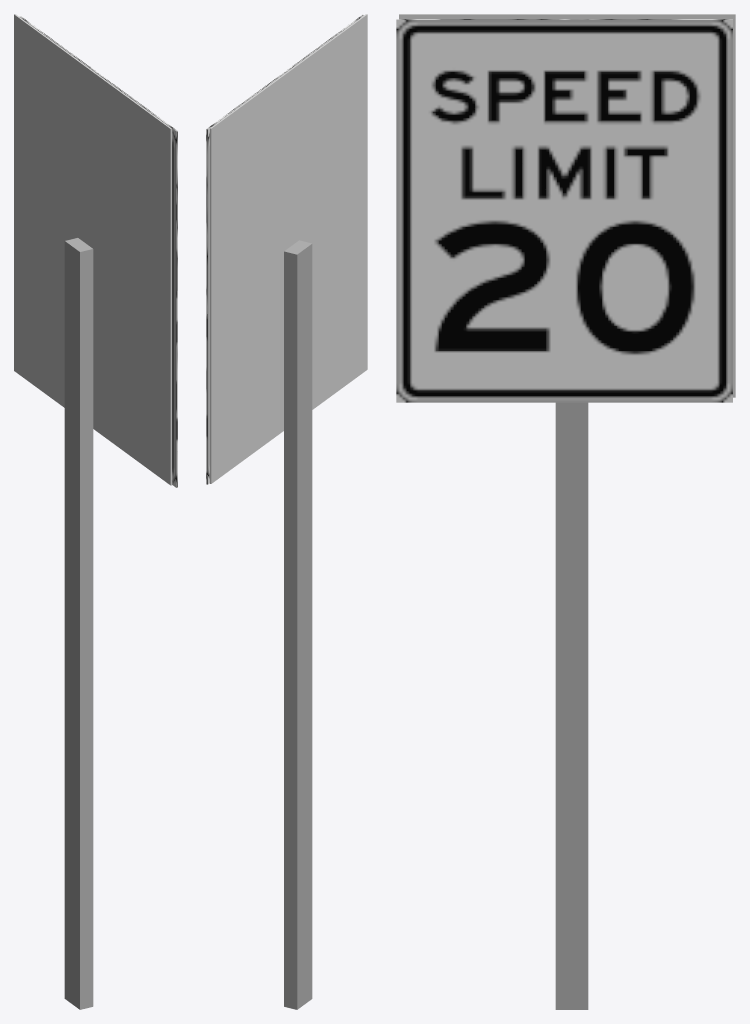
Rendered from speedlim_20.dae.
3 views of the same model, side by side, from view 1: azimuth 30°, elevation 25°; view 2: azimuth 150°, elevation 25°; view 3: azimuth 270°, elevation 25° (orthographic). The views are drawn at different scales.
Visible parts, largest first — view 1: Cube_002, Cube_001, Cube; view 2: Cube_002, Cube_001, Cube; view 3: Cube, Cube_001, Cube_002.
Part boxes in pixels (x1,y1,x2,y2): Cube_002: (14,14,172,485); Cube_001: (64,238,93,1009); Cube: (20,16,177,487); Cube_002: (210,14,367,483); Cube_001: (284,240,312,1009); Cube: (206,14,363,484); Cube: (396,19,732,402); Cube_001: (555,402,588,1009); Cube_002: (399,14,735,397).
Size of the model in its own units: 0.0799 by 0.9209 by 2.99.
